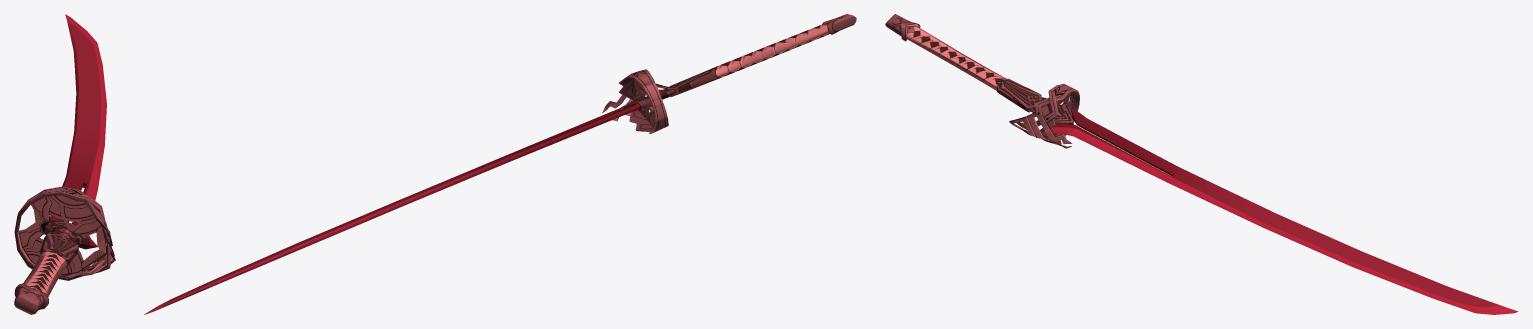
The model's file is Kafka Sword.gltf.
The picture shows the model from 3 angles, left to right: view 1: azimuth 90°, elevation 25°; view 2: azimuth 210°, elevation 25°; view 3: azimuth 330°, elevation 25°; orthographic projection. The views are drawn at different scales.
Parts seen in each view (by area): view 1: Sword; view 2: Sword; view 3: Sword.
Boxes of the visible parts, bbox=[...] form: Sword: bbox=[14, 14, 115, 314]; Sword: bbox=[144, 14, 856, 314]; Sword: bbox=[885, 14, 1518, 314].
Bounding box in the file's own units: 1.36 × 0.2703 × 0.1193.
1 material, 1 textured.
